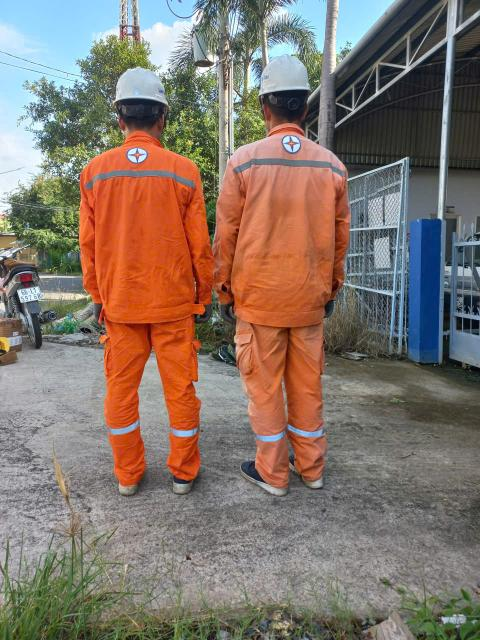gloves: (316, 291, 345, 330), (188, 288, 215, 328), (214, 293, 241, 330)
helmet: (243, 52, 321, 104), (105, 63, 177, 113)
shoes: (108, 454, 162, 514), (228, 448, 287, 496), (167, 449, 218, 503), (282, 444, 332, 495)
